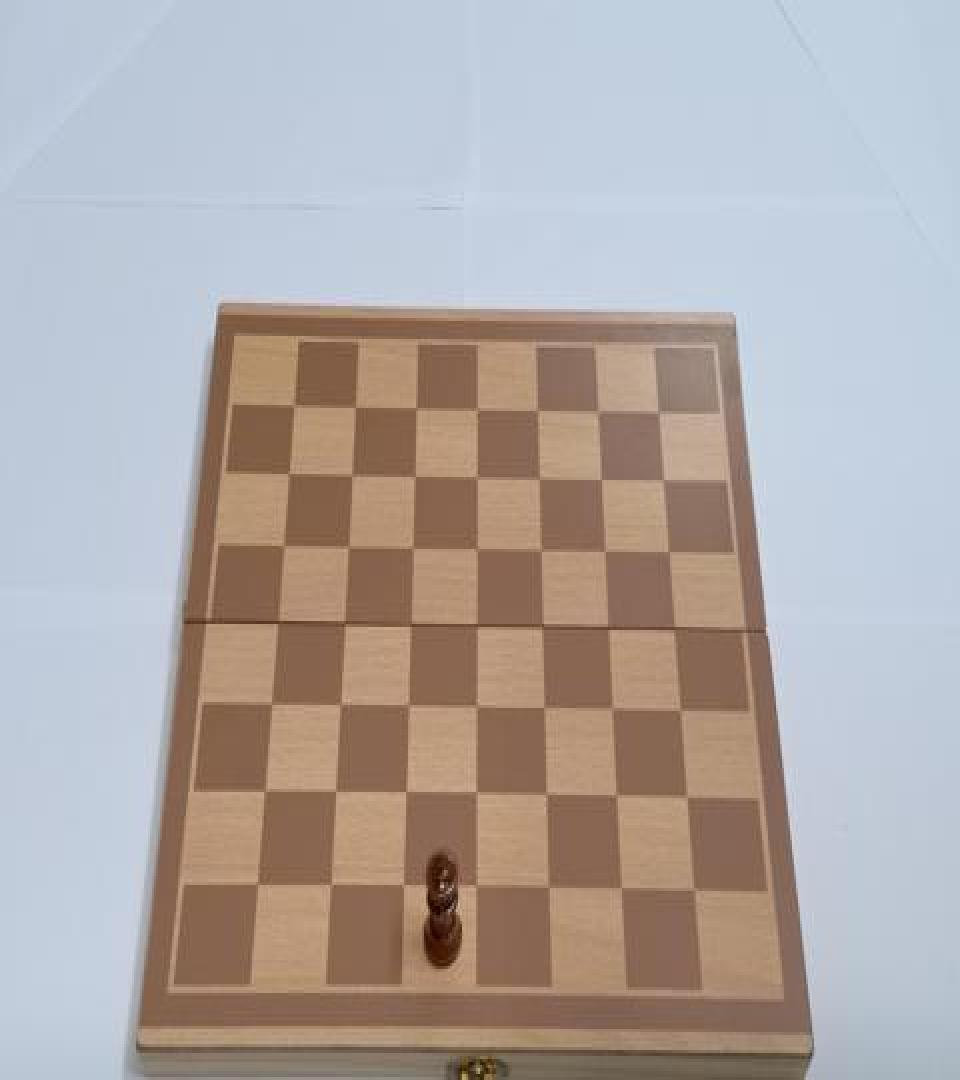xcorner: (526, 397, 546, 428), (591, 466, 611, 497), (281, 393, 301, 423), (276, 462, 296, 492), (270, 534, 290, 564), (258, 692, 278, 722), (251, 777, 271, 807), (244, 870, 264, 900), (343, 394, 363, 424), (339, 462, 359, 492), (335, 534, 355, 564), (327, 693, 347, 723), (404, 396, 424, 426), (402, 464, 422, 494), (398, 612, 418, 642), (396, 693, 416, 723), (394, 780, 414, 810), (391, 873, 411, 903), (465, 396, 485, 426), (465, 465, 485, 495), (465, 537, 485, 567), (465, 614, 485, 644), (465, 694, 485, 724), (465, 782, 485, 812), (465, 874, 485, 904), (528, 465, 548, 495), (530, 538, 550, 568), (532, 615, 552, 645), (534, 696, 554, 726), (536, 783, 556, 813), (538, 874, 558, 904), (588, 399, 608, 429), (595, 538, 615, 568), (598, 615, 618, 645), (612, 876, 632, 906), (649, 399, 669, 429), (654, 468, 674, 498), (659, 540, 679, 570), (671, 699, 691, 729), (264, 611, 284, 640), (331, 611, 351, 640), (322, 779, 342, 808), (318, 872, 338, 901), (400, 536, 420, 565), (603, 698, 623, 727), (607, 785, 627, 814), (665, 617, 685, 646), (678, 785, 698, 814), (685, 878, 705, 907)
